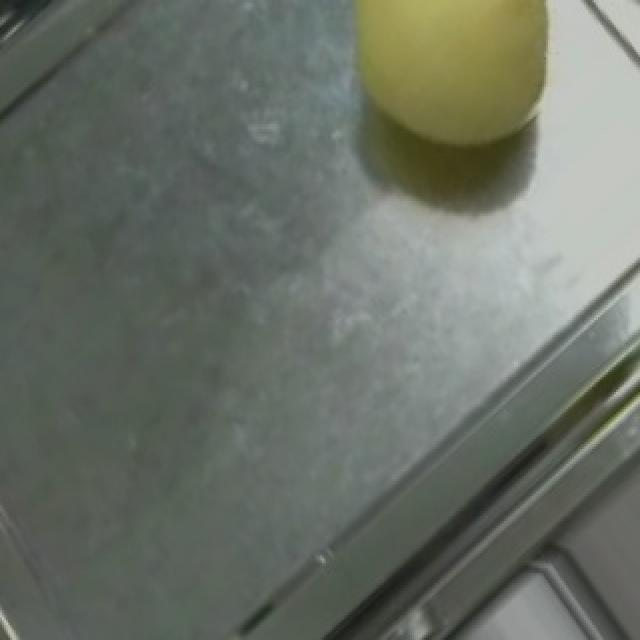Fruit: (308, 0, 594, 184)
